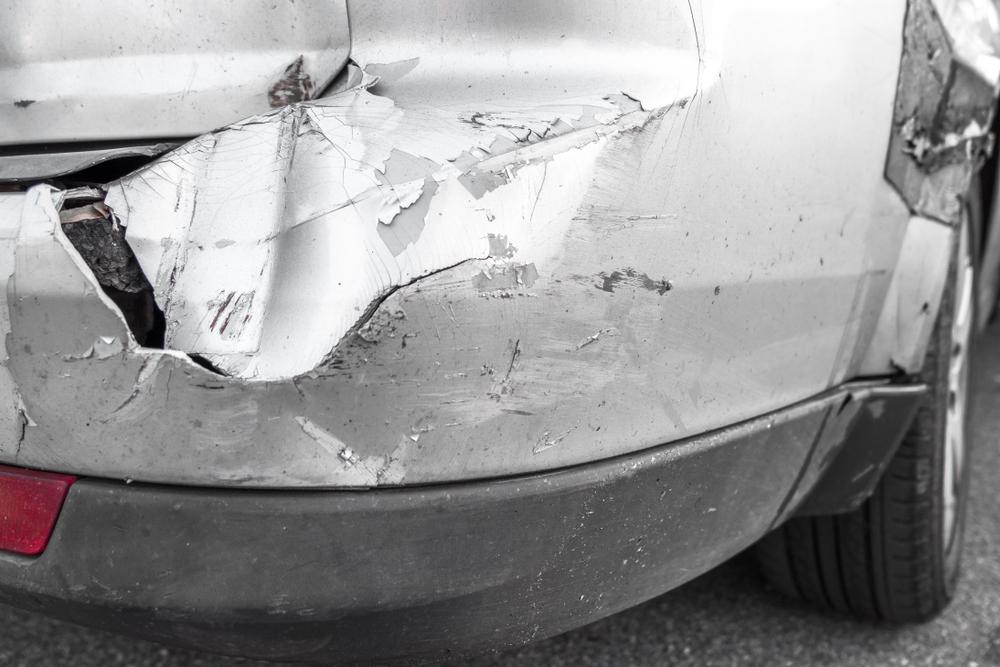crack: (50, 184, 494, 383), (15, 409, 30, 461)
dent: (103, 99, 359, 378)
scratch: (63, 92, 674, 480)
